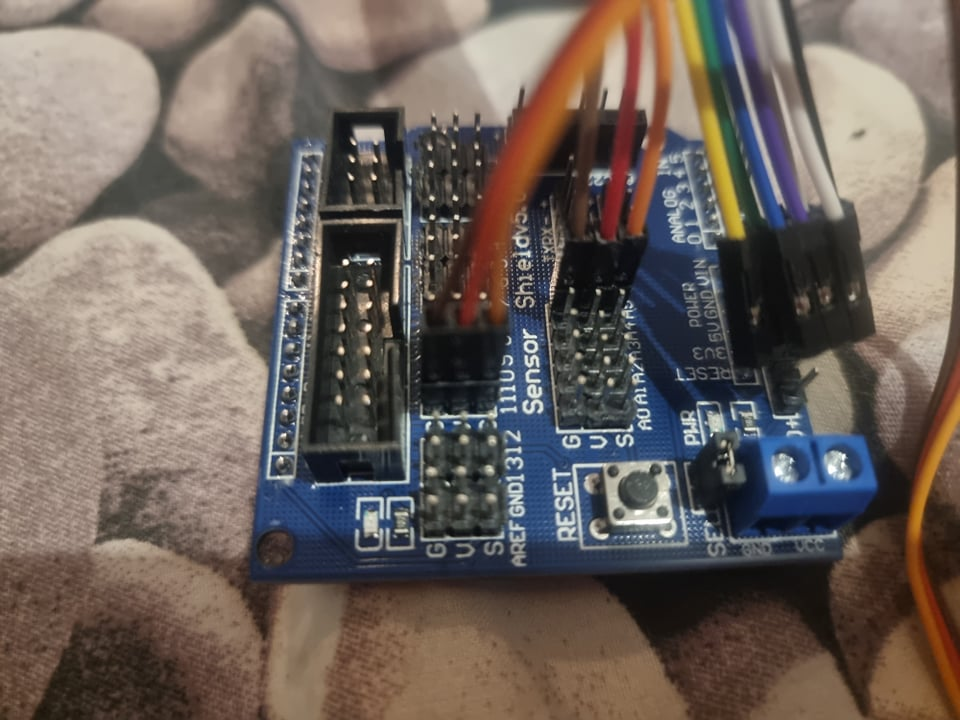5V EXPANSION: (248, 100, 880, 584)
